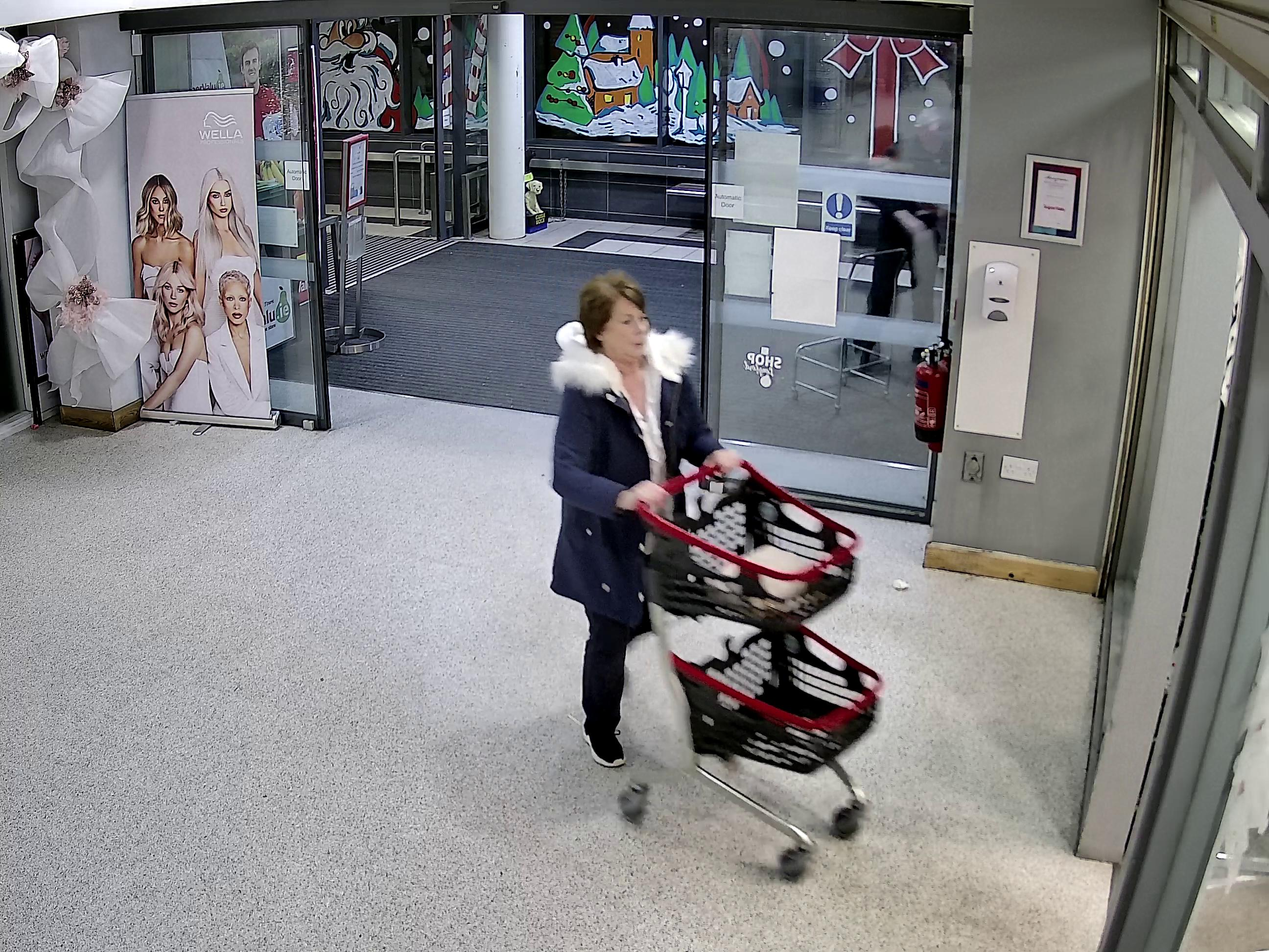empty-trolly: (630, 451, 884, 880)
person: (548, 268, 741, 765)
person-with-empty-basket-trolly: (548, 266, 884, 882)
